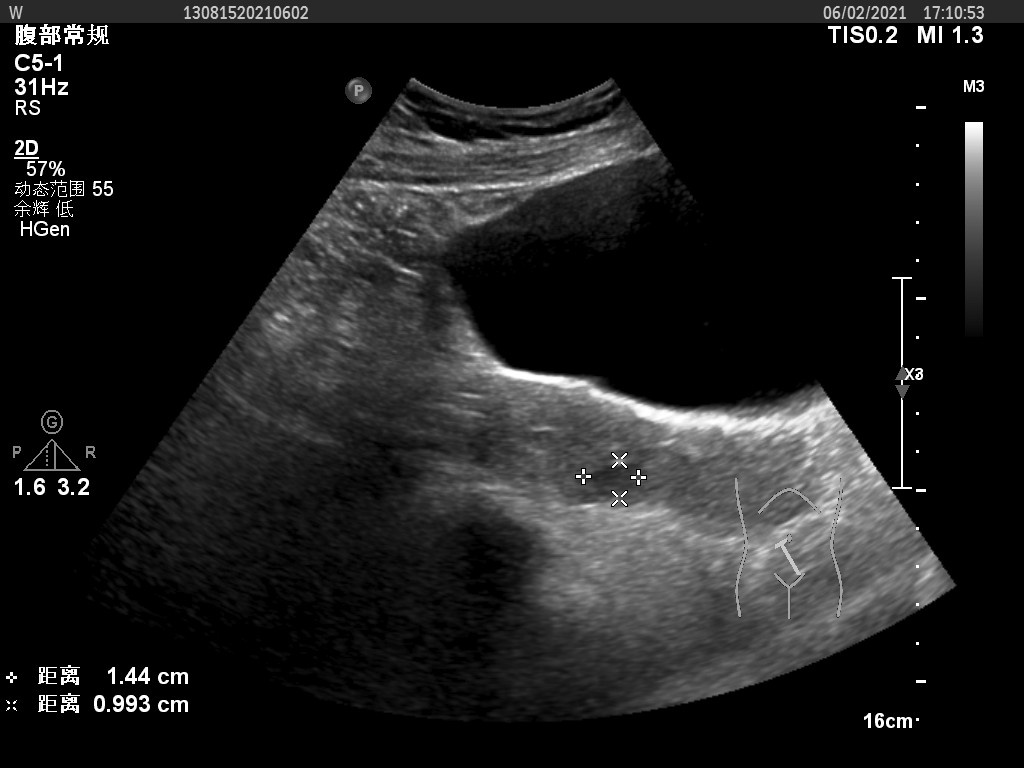肌瘤: (594, 463, 636, 491)
